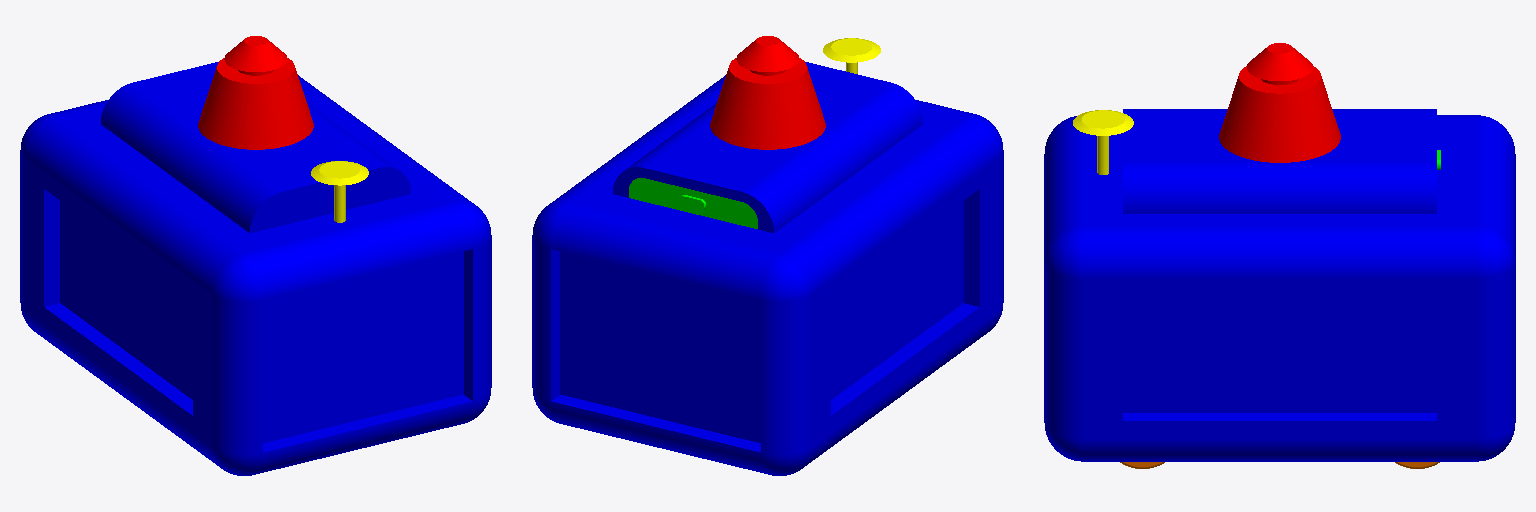
robot.urdf — wildguide:
<?xml version="1.0" encoding="UTF-8"?>

<robot name="wildguide" xmlns:xacros="http://www.ros.org/wiki/xacro">
  <!-- base footprint -->
  <link name="base_footprint" />
  <joint name="base_footprint_to_base_link" type="fixed">
    <parent link="base_footprint"/>
    <child link="base_link"/>
    <origin xyz="0 0 0" rpy="0 0 0"/>
  </joint>
  <!-- base link -->
  <link name="base_link">
    <inertial>
      <mass value="1.0"/>
      <origin xyz="0 0 0" rpy="0 0 0"/>
      <inertia ixx="0.1" ixy="0.0" ixz="0.0" iyy="0.1" iyz="0.0" izz="0.1"/>
    </inertial>
    <visual>
      <geometry>
      <mesh filename="package://wildguide_description/meshes/base_link.stl" scale="0.001 0.001 0.001"/>
      </geometry>
      <material name="blue">
        <color rgba="0 0 1 1"/>
      </material>
    </visual>
    <collision>
      <geometry>
      <mesh filename="package://wildguide_description/meshes/base_link.stl" scale="0.001 0.001 0.001"/>
      </geometry>
    </collision>
  </link>

  <!-- Velodyne -->
  <link name="velodyne_link">
    <inertial>
      <mass value="0.5"/>
      <origin xyz="0 0 0" rpy="0 0 0"/>
      <inertia ixx="0.05" ixy="0.0" ixz="0.0" iyy="0.05" iyz="0.0" izz="0.05"/>
    </inertial>
    <visual>
      <geometry>
        <mesh filename="package://wildguide_description/meshes/velodyne.stl" scale="0.001 0.001 0.001"/>
      </geometry>
      <material name="red">
        <color rgba="1 0 0 1"/>
      </material>
    </visual>
    <collision>
      <geometry>
        <mesh filename="package://wildguide_description/meshes/velodyne.stl" scale="0.001 0.001 0.001"/>
      </geometry>
    </collision>
  </link>
  <joint name="velodyne_joint" type="fixed">
    <parent link="base_link"/>
    <child link="velodyne_link"/>
    <origin xyz="0 0 0" rpy="0 0 0"/>
  </joint>

  <!-- camera link -->
  <link name="camera_link">
    <inertial>
      <mass value="0.1"/>
      <origin xyz="0 0 0" rpy="0 0 0"/>
      <inertia ixx="0.01" ixy="0.0" ixz="0.0" iyy="0.01" iyz="0.0" izz="0.01"/>
    </inertial>
    <visual>
      <geometry>
        <mesh filename="package://wildguide_description/meshes/camera.stl" scale="0.001 0.001 0.001"/>
      </geometry>
      <material name="green">
        <color rgba="0 1 0 1"/>
      </material>
    </visual>
    <collision>
      <geometry>
        <mesh filename="package://wildguide_description/meshes/camera.stl" scale="0.001 0.001 0.001"/>
      </geometry>
    </collision>
  </link>
  <joint name="camera_joint" type="fixed">
    <parent link="base_link"/>
    <child link="camera_link"/>
    <origin xyz="0 0 0" rpy="0 0 0"/>
  </joint>

  <!-- gps -->
  <link name="gps_link">
    <inertial>
      <mass value="0.1"/>
      <origin xyz="0 0 0" rpy="0 0 0"/>
      <inertia ixx="0.01" ixy="0.0" ixz="0.0" iyy="0.01" iyz="0.0" izz="0.01"/>
    </inertial>
    <visual>
      <geometry>
        <mesh filename="package://wildguide_description/meshes/gps.stl" scale="0.001 0.001 0.001"/>
      </geometry>
      <material name="yellow">
        <color rgba="1 1 0 1"/>
      </material>
    </visual>
    <collision>
      <geometry>
        <mesh filename="package://wildguide_description/meshes/gps.stl" scale="0.001 0.001 0.001"/>
      </geometry>
    </collision>
  </link>
  <joint name="gps_joint" type="fixed">
    <parent link="base_link"/>
    <child link="gps_link"/>
    <origin xyz="0 0 0" rpy="0 0 0"/>
  </joint>

  <!-- front left wheel -->
  <link name="front_left_wheel_link">
    <inertial>
      <mass value="0.1"/>
      <origin xyz="0 0 0" rpy="0 0 0"/>
      <inertia ixx="0.01" ixy="0.0" ixz="0.0" iyy="0.01" iyz="0.0" izz="0.01"/>
    </inertial>
    <visual>
      <geometry>
        <mesh filename="package://wildguide_description/meshes/wheel.stl" scale="0.001 0.001 0.001"/>
      </geometry>
      <material name="orange">
        <color rgba="1 0.5 0 1"/>
      </material>
    </visual>
    <collision>
      <geometry>
        <mesh filename="package://wildguide_description/meshes/wheel.stl" scale="0.001 0.001 0.001"/>
      </geometry>
    </collision>
  </link>
  <joint name="front_left_wheel_joint" type="continuous">
    <parent link="base_link"/>
    <child link="front_left_wheel_link"/>
    <origin xyz="0 0 0" rpy="0 0 0"/>
    <axis xyz="0 1 0"/>
  </joint>


  <!-- front right wheel -->
  <link name="front_right_wheel_link">
    <inertial>
      <mass value="0.1"/>
      <origin xyz="0 0 0" rpy="0 0 0"/>
      <inertia ixx="0.01" ixy="0.0" ixz="0.0" iyy="0.01" iyz="0.0" izz="0.01"/>
    </inertial>
    <visual>
      <geometry>
        <mesh filename="package://wildguide_description/meshes/wheel.stl" scale="0.001 0.001 0.001"/>
      </geometry>
      <material name="orange">
        <color rgba="1 0.5 0 1"/>
      </material>
    </visual>
    <collision>
      <geometry>
        <mesh filename="package://wildguide_description/meshes/wheel.stl" scale="0.001 0.001 0.001"/>
      </geometry>
    </collision>
  </link>
  <joint name="front_right_wheel_joint" type="continuous">
    <parent link="base_link"/>
    <child link="front_right_wheel_link"/>
    <origin xyz="-0.4 0 0" rpy="0 0 0"/>
    <axis xyz="0 1 0"/>
  </joint>
  <!-- rear left wheel -->
  <link name="rear_left_wheel_link">
    <inertial>
      <mass value="0.1"/>
      <origin xyz="0 0 0" rpy="0 0 0"/>
      <inertia ixx="0.01" ixy="0.0" ixz="0.0" iyy="0.01" iyz="0.0" izz="0.01"/>
    </inertial>
    <visual>
      <geometry>
        <mesh filename="package://wildguide_description/meshes/wheel.stl" scale="0.001 0.001 0.001"/>
      </geometry>
      <material name="orange">
        <color rgba="1 0.5 0 1"/>
      </material>
    </visual>
    <collision>
      <geometry>
        <mesh filename="package://wildguide_description/meshes/wheel.stl" scale="0.001 0.001 0.001"/>
      </geometry>
    </collision>
  </link>
  <joint name="rear_left_wheel_joint" type="continuous">
    <parent link="base_link"/>
    <child link="rear_left_wheel_link"/>
    <origin xyz="0 -0.7 0" rpy="0 0 0"/>
    <axis xyz="0 1 0"/>
  </joint>
  <!-- rear right wheel -->
  <link name="rear_right_wheel_link">
    <inertial>
      <mass value="0.1"/>
      <origin xyz="0 0 0" rpy="0 0 0"/>
      <inertia ixx="0.01" ixy="0.0" ixz="0.0" iyy="0.01" iyz="0.0" izz="0.01"/>
    </inertial>
    <visual>
      <geometry>
        <mesh filename="package://wildguide_description/meshes/wheel.stl" scale="0.001 0.001 0.001"/>
      </geometry>
      <material name="orange">
        <color rgba="1 0.5 0 1"/>
      </material>
    </visual>
    <collision>
      <geometry>
        <mesh filename="package://wildguide_description/meshes/wheel.stl" scale="0.001 0.001 0.001"/>
      </geometry>
    </collision>
  </link>
  <joint name="rear_right_wheel_joint" type="continuous">
    <parent link="base_link"/>
    <child link="rear_right_wheel_link"/>
    <origin xyz="-0.4 -0.7 0" rpy="0 0 0"/>
    <axis xyz="0 1 0"/>
  </joint>
</robot>

--- Render facts (derived) ---
Views: 3 orthographic renders of the robot side by side, from view 1: azimuth 30°, elevation 25°; view 2: azimuth 150°, elevation 25°; view 3: azimuth 270°, elevation 25°.
Robot: wildguide — 9 links, 8 joints (4 continuous, 4 fixed); root link base_footprint; default pose: every joint at zero.
Links seen in each view (by area): view 1: base_link, velodyne_link, gps_link; view 2: base_link, velodyne_link, camera_link, gps_link; view 3: base_link, velodyne_link, gps_link.
Boxes of the visible links, bbox=[...] form: base_link: bbox=[20, 62, 491, 475]; velodyne_link: bbox=[198, 36, 313, 149]; gps_link: bbox=[311, 161, 368, 222]; base_link: bbox=[532, 62, 1003, 475]; velodyne_link: bbox=[710, 36, 825, 149]; camera_link: bbox=[629, 178, 757, 228]; gps_link: bbox=[823, 38, 880, 73]; base_link: bbox=[1044, 109, 1515, 461]; velodyne_link: bbox=[1219, 43, 1340, 162]; gps_link: bbox=[1073, 110, 1133, 174].
Bounding box of the posed robot: 0.85 × 1.2 × 1.07 m (x, y, z).
Meshes: 5 distinct files referenced, 8 mesh visuals loaded (5 binary STL).
